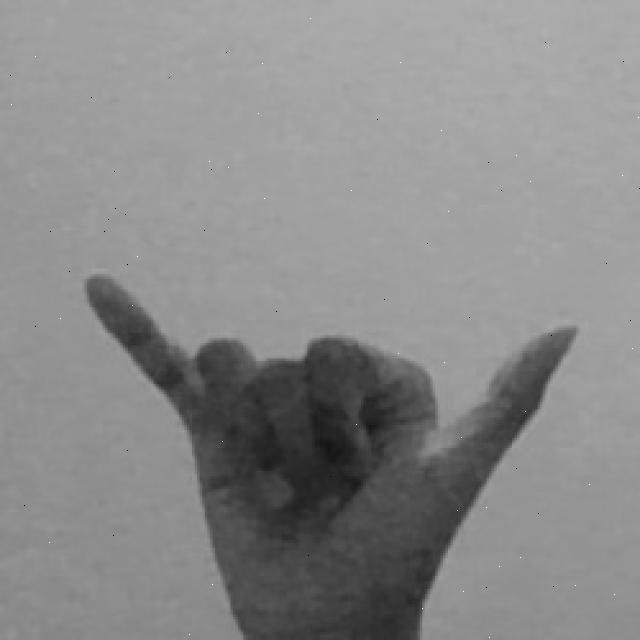Y: (79, 263, 581, 640)
